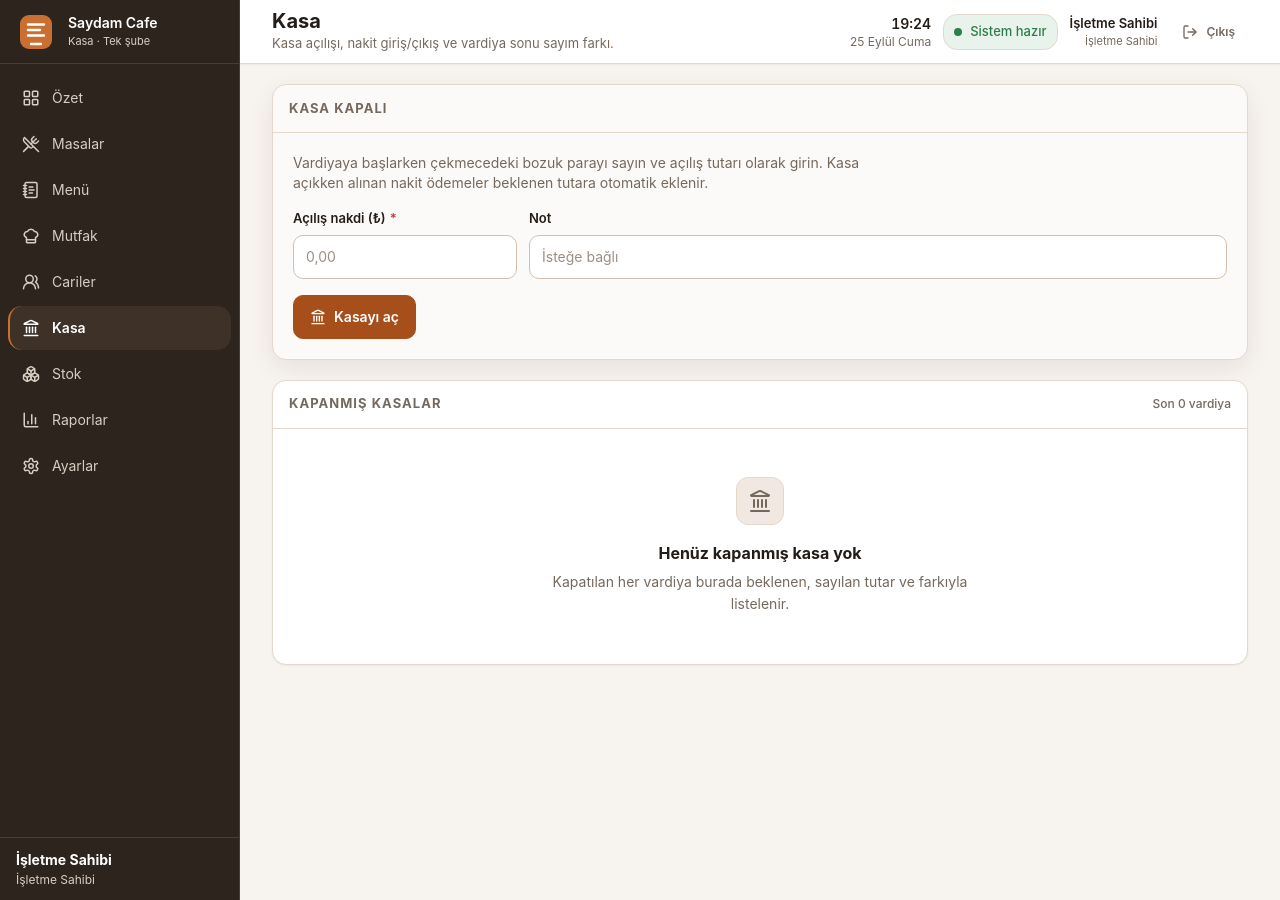
it: Kasa ekranı › kasa kapalıyken açılış tutarını kuruşa çevirip gönderir
In the field labelled "Açılış nakdi (₺)": (405, 256) [293,234,517,278], type "500,00"
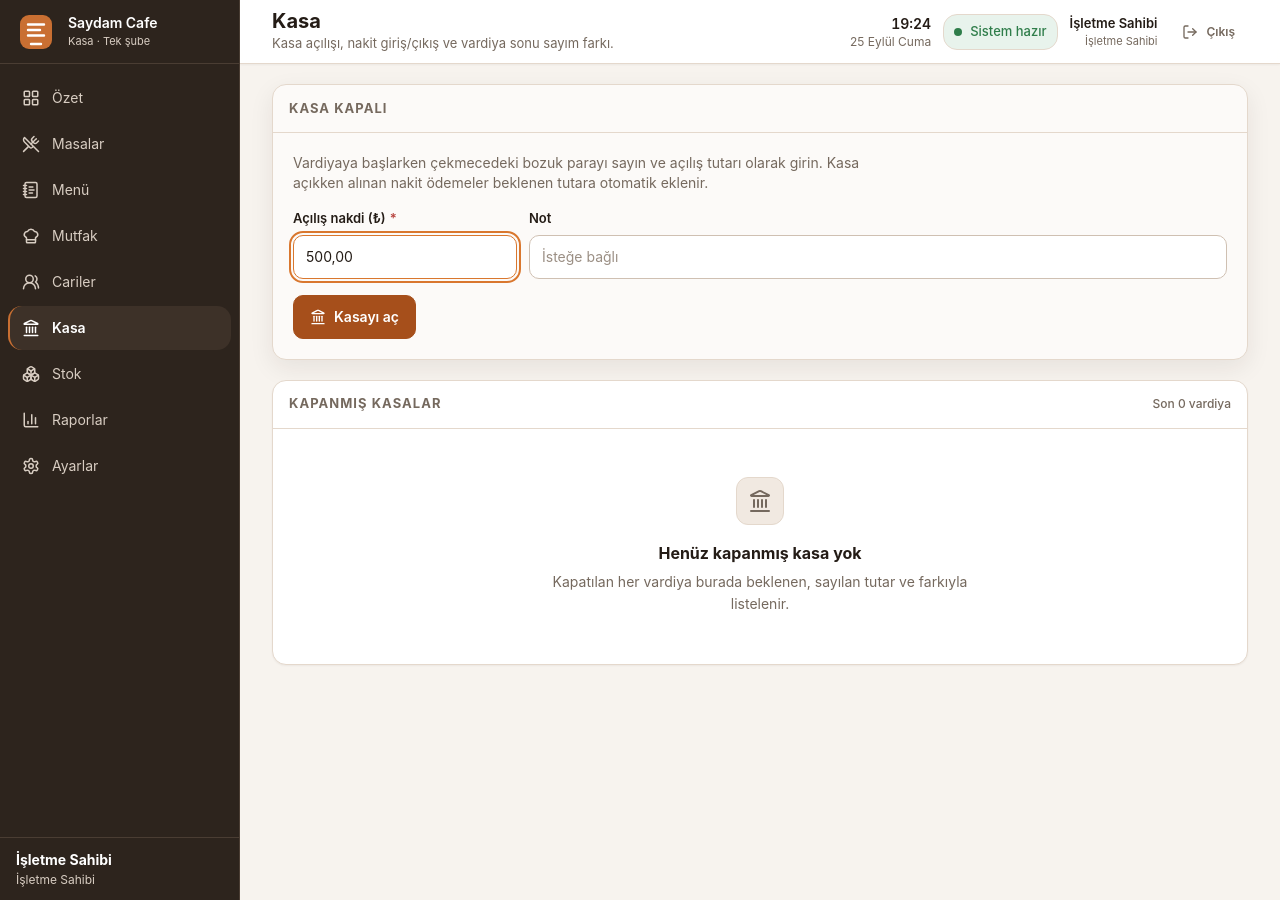
Click the button "Kasayı aç": (354, 316) [293,294,416,338]
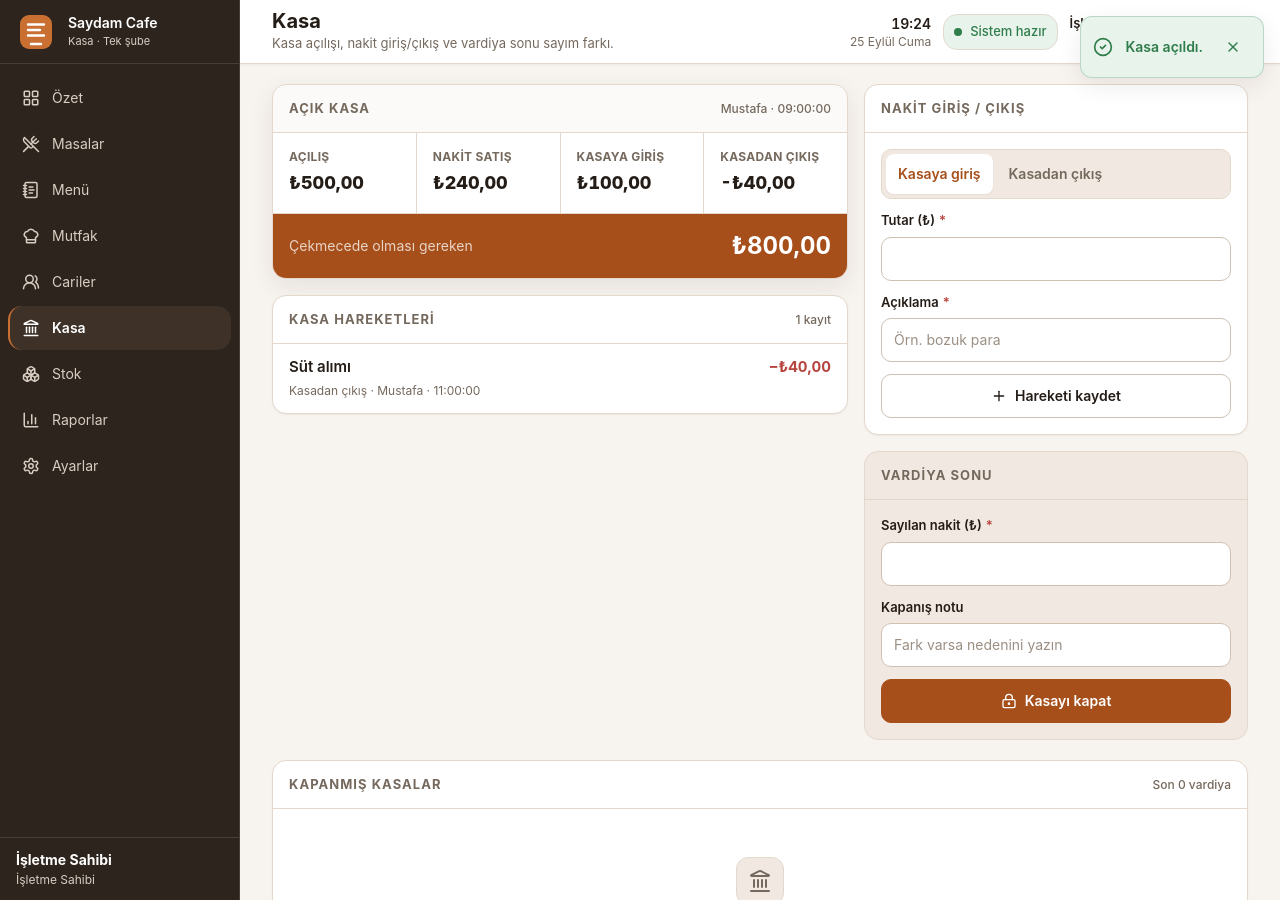
Expected: the text named "Beklenen nakit" shows "800,00", [732,231,831,260]
